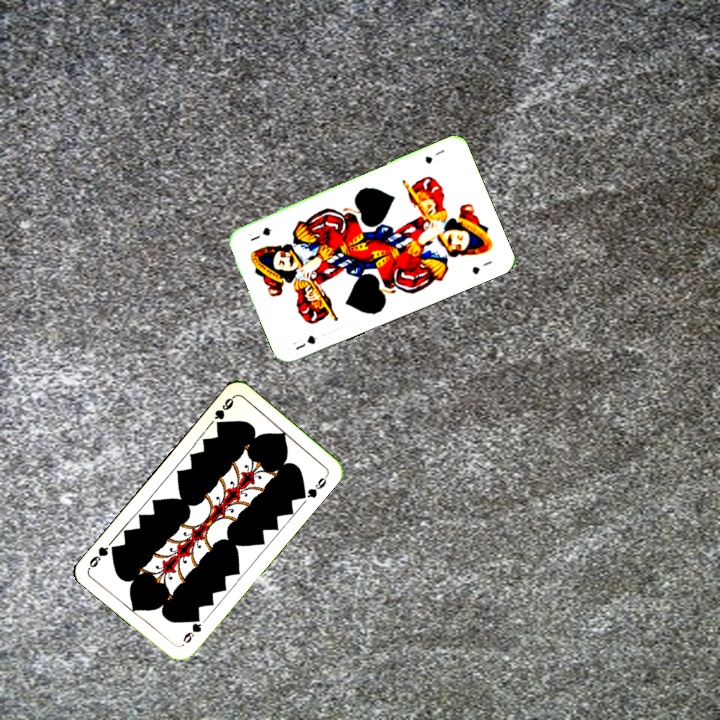G9: (210, 392, 237, 431), (179, 612, 205, 646)
GU: (289, 331, 319, 353), (421, 145, 447, 166)
